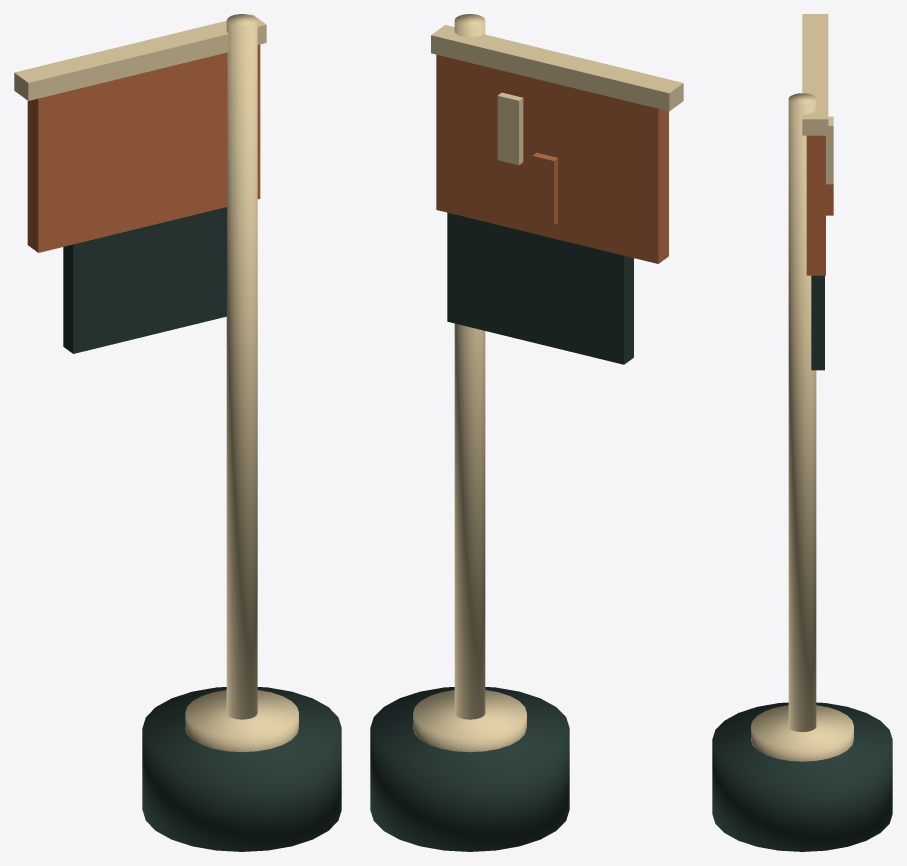
Rendered from fanflag.copper-gulls-old.glb.
The picture shows the model from 3 angles, left to right: view 1: azimuth 30°, elevation 25°; view 2: azimuth 150°, elevation 25°; view 3: azimuth 270°, elevation 25°; orthographic projection. The views are drawn at different scales.
Parts seen in each view (by area): view 1: weighted flag foot; view 2: weighted flag foot; view 3: weighted flag foot.
Part boxes in pixels (box(x1,y1,x2,y2)): weighted flag foot: box(14, 14, 341, 851); weighted flag foot: box(370, 14, 683, 851); weighted flag foot: box(712, 14, 892, 851).
Bounding box in the file's own units: 0.73 × 1.84 × 0.42.
